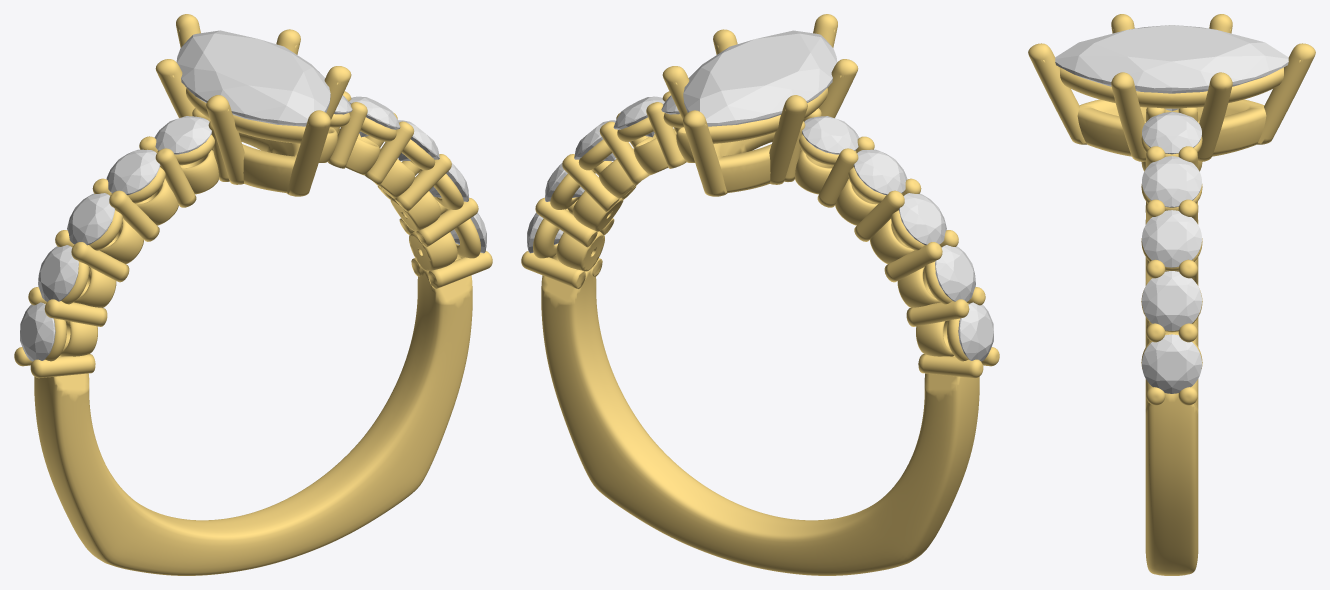
Rendered from diamond-marquise-yellowgold-6prong-europeanshank-11stone.glb.
3 views of the same model, side by side, from view 1: azimuth 30°, elevation 25°; view 2: azimuth 150°, elevation 25°; view 3: azimuth 270°, elevation 25° (orthographic).
Parts seen in each view (by area): view 1: metal.001, stone.001, side.012, side.011, side.013, side.010, side.014, side.018; view 2: metal.001, stone.001, side.012, side.011, side.013, side.010, side.014, side.018; view 3: metal.001, stone.001, side.016, side.015, side.017, side.018, side.019.
Boxes of the visible parts, x1=… form: metal.001: x1=14, y1=14, x2=492, y2=575; stone.001: x1=176, y1=30, x2=330, y2=126; side.012: x1=67, y1=193, x2=114, y2=245; side.011: x1=38, y1=245, x2=78, y2=301; side.013: x1=106, y1=149, x2=160, y2=194; side.010: x1=20, y1=302, x2=55, y2=361; side.014: x1=154, y1=116, x2=211, y2=154; side.018: x1=349, y1=96, x2=400, y2=137; metal.001: x1=521, y1=14, x2=999, y2=575; stone.001: x1=683, y1=30, x2=837, y2=126; side.012: x1=899, y1=193, x2=946, y2=245; side.011: x1=935, y1=245, x2=975, y2=301; side.013: x1=853, y1=149, x2=907, y2=195; side.010: x1=958, y1=302, x2=993, y2=361; side.014: x1=802, y1=116, x2=859, y2=154; side.018: x1=613, y1=96, x2=664, y2=137; metal.001: x1=1028, y1=14, x2=1315, y2=575; stone.001: x1=1055, y1=25, x2=1288, y2=111; side.016: x1=1142, y1=271, x2=1201, y2=330; side.015: x1=1142, y1=334, x2=1201, y2=393; side.017: x1=1142, y1=210, x2=1201, y2=267; side.018: x1=1142, y1=156, x2=1201, y2=207; side.019: x1=1142, y1=112, x2=1201, y2=154.
Size of the model in its own units: 21.88 by 22.73 by 11.96.
